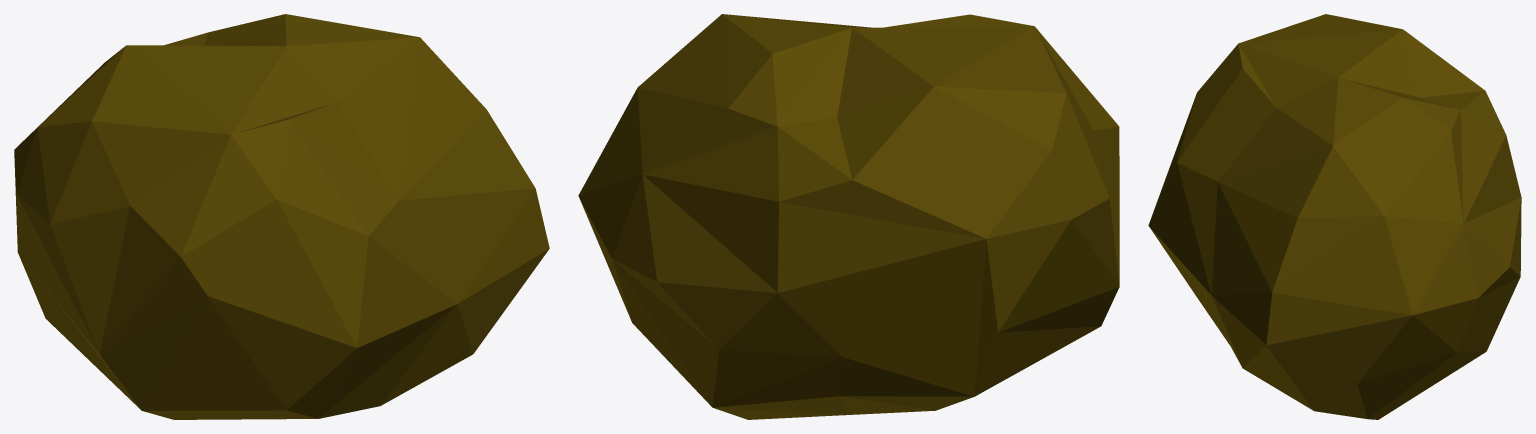
The model's file is Rock 001.fbx.
3 renders of one model, left to right at view 1: azimuth 30°, elevation 25°; view 2: azimuth 150°, elevation 25°; view 3: azimuth 270°, elevation 25°, orthographic. The views are drawn at different scales.
Parts seen in each view (by area): view 1: Rock_001_pPlatonic1; view 2: Rock_001_pPlatonic1; view 3: Rock_001_pPlatonic1.
Boxes of the visible parts, x1=… form: Rock_001_pPlatonic1: x1=14, y1=14, x2=549, y2=419; Rock_001_pPlatonic1: x1=578, y1=14, x2=1119, y2=419; Rock_001_pPlatonic1: x1=1148, y1=14, x2=1521, y2=419.
Size of the model in its own units: 2.47 by 1.95 by 2.11.
